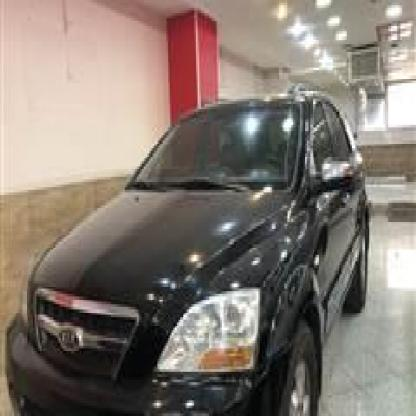Car: (0, 88, 376, 416)
